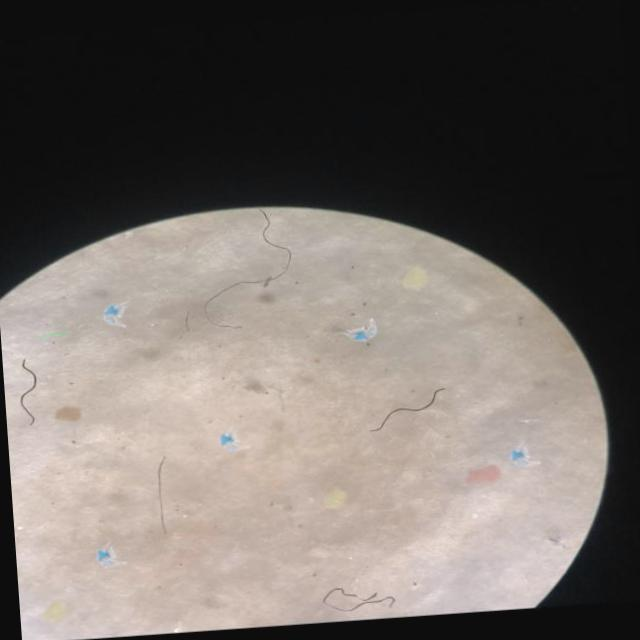fiber: (206, 209, 291, 308), (375, 388, 442, 430), (324, 587, 395, 610), (21, 358, 36, 423), (156, 456, 166, 530)
film: (350, 318, 377, 341), (104, 303, 122, 322), (511, 447, 530, 465), (221, 432, 237, 449), (97, 547, 112, 563)
fragment: (403, 267, 427, 289), (468, 464, 499, 481), (44, 600, 66, 619), (325, 488, 346, 507), (55, 406, 80, 421)
pellet: (473, 512, 478, 517)
